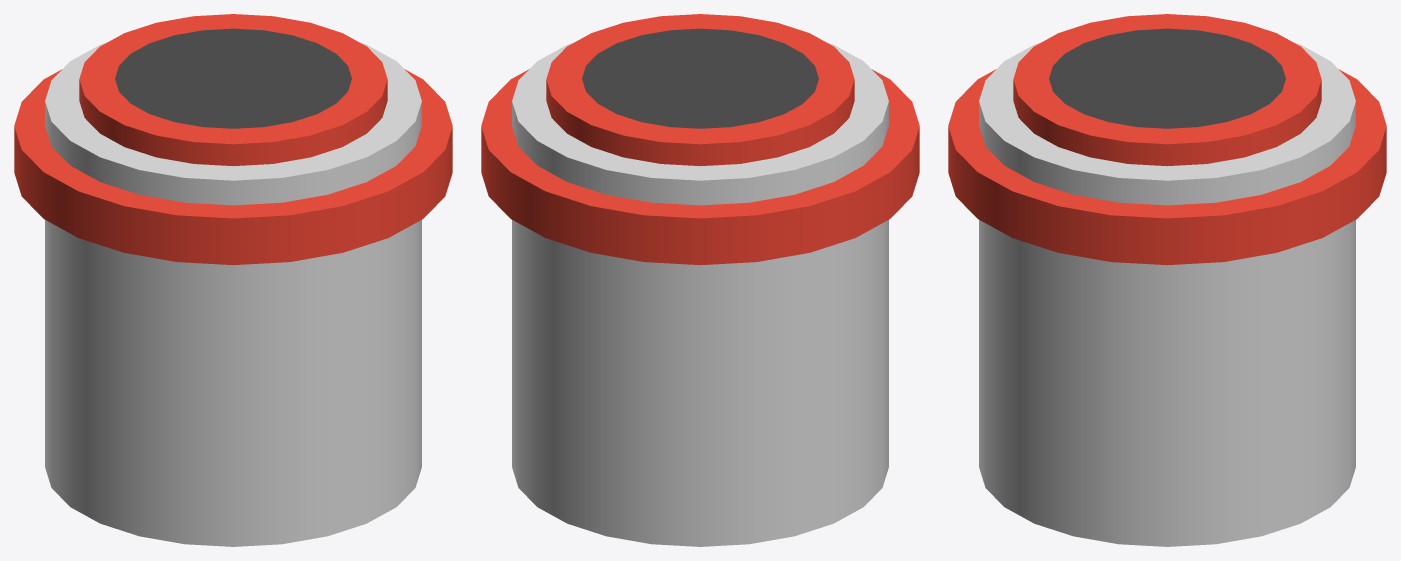
The model's file is Button D.fbx.
The picture shows the model from 3 angles, left to right: view 1: azimuth 30°, elevation 25°; view 2: azimuth 150°, elevation 25°; view 3: azimuth 270°, elevation 25°; orthographic projection.
Visible parts, largest first — view 1: Button D, Button D.001, Button D.002; view 2: Button D, Button D.001, Button D.002; view 3: Button D, Button D.001, Button D.002.
Part boxes in pixels (x1,y1,x2,y2): Button D: (45,42,421,546); Button D.001: (79,14,387,166); Button D.002: (14,69,452,265); Button D: (512,42,888,546); Button D.001: (546,14,854,166); Button D.002: (481,69,919,265); Button D: (979,42,1355,546); Button D.001: (1013,14,1321,166); Button D.002: (948,69,1386,265).
Bounding box in the file's own units: 153 × 150 × 153.
